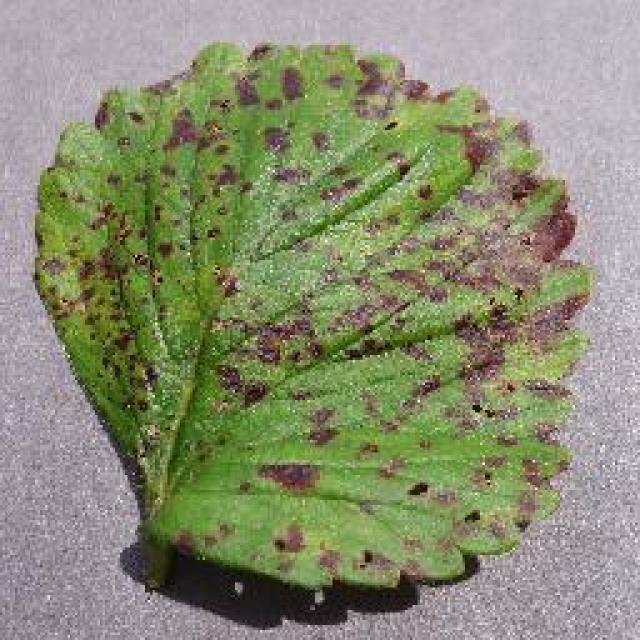Strawberry___Leaf_scorch: (8, 20, 610, 638)
